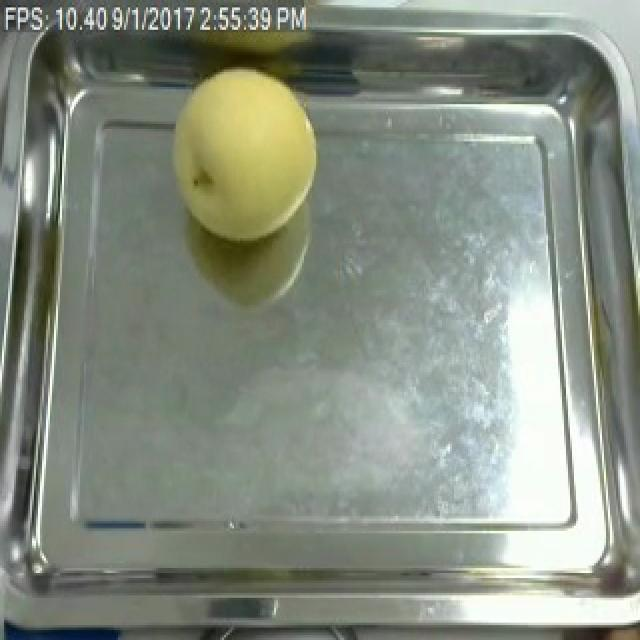Fruit: (160, 59, 328, 250)
